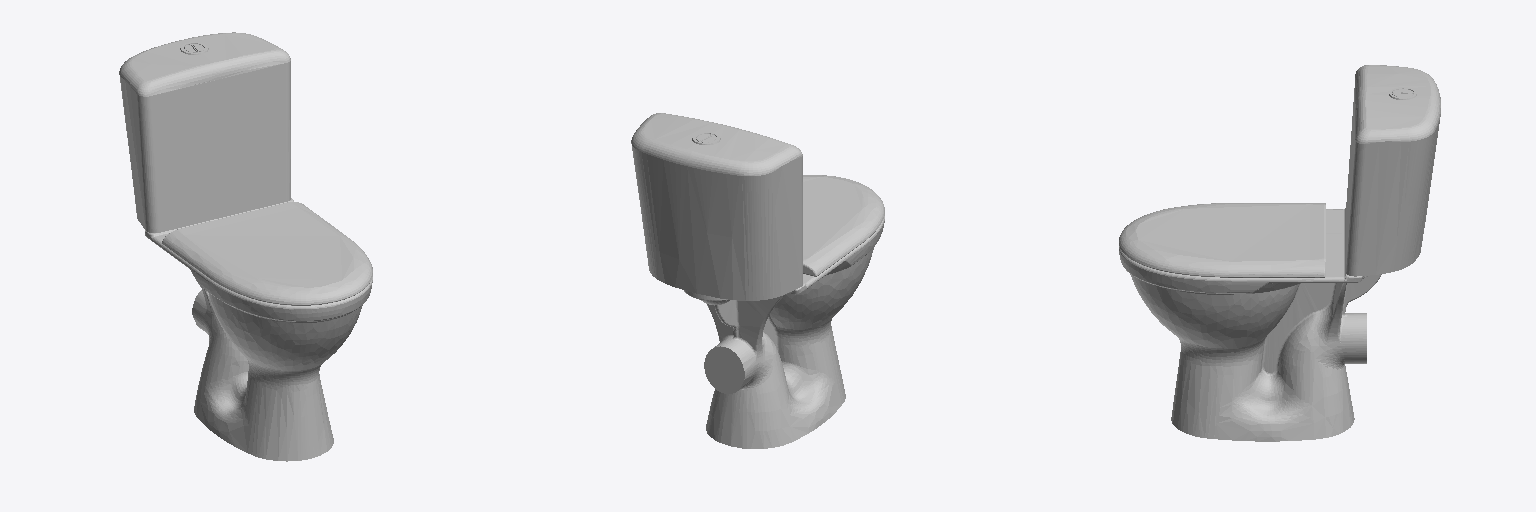
Rendered from toilet_obj.obj.
3 views of the same model, side by side, from view 1: azimuth 30°, elevation 25°; view 2: azimuth 150°, elevation 25°; view 3: azimuth 270°, elevation 25° (orthographic).
Parts seen in each view (by area): view 1: CERSANIT_K03-014_wc_kompakt_MERIDA; view 2: CERSANIT_K03-014_wc_kompakt_MERIDA; view 3: CERSANIT_K03-014_wc_kompakt_MERIDA.
Boxes of the visible parts, <box> form: CERSANIT_K03-014_wc_kompakt_MERIDA: <box>119,32,372,461</box>; CERSANIT_K03-014_wc_kompakt_MERIDA: <box>631,113,884,448</box>; CERSANIT_K03-014_wc_kompakt_MERIDA: <box>1119,65,1440,441</box>.
Bounding box in the file's own units: 36.74 × 75.3 × 67.58.